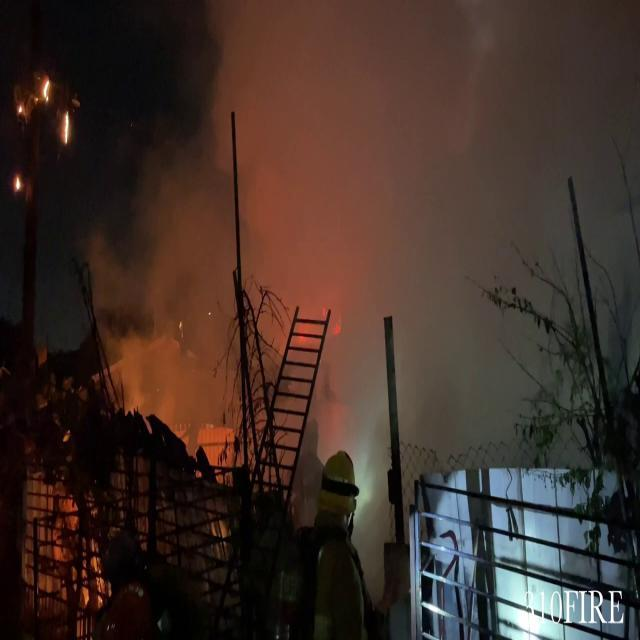Smoke: (69, 0, 616, 446)
